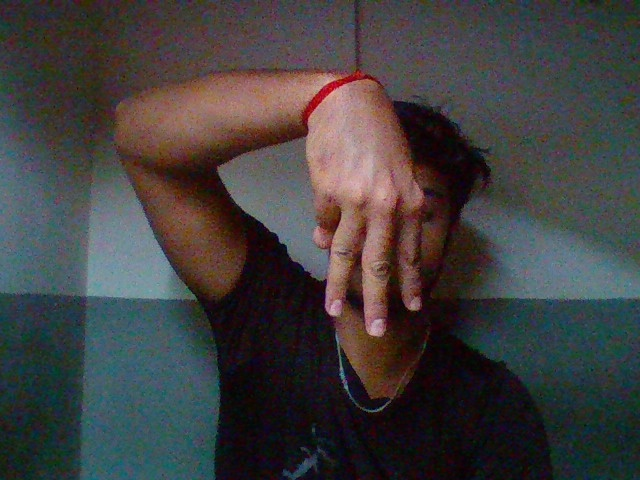M: (290, 81, 449, 349)
